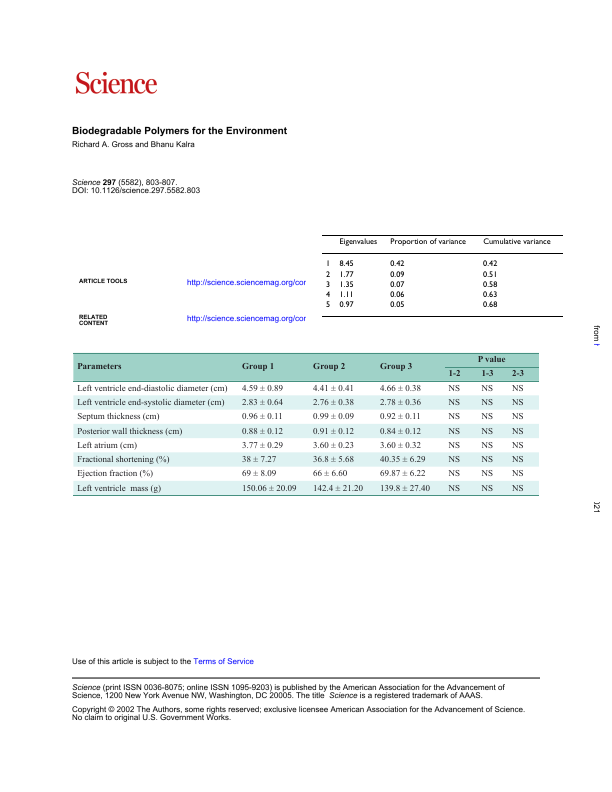borderless: (72, 351, 539, 495), (321, 233, 563, 317)
cell: (75, 384, 228, 394), (75, 398, 225, 408), (75, 427, 183, 437), (75, 455, 170, 465), (75, 412, 160, 423), (75, 484, 161, 494), (75, 469, 153, 480), (389, 237, 466, 247), (482, 237, 551, 247), (75, 441, 137, 451), (241, 484, 297, 494), (379, 469, 426, 480), (312, 484, 363, 494), (379, 484, 430, 494), (379, 455, 426, 465), (241, 412, 283, 423), (312, 412, 354, 423), (379, 412, 421, 423), (76, 363, 122, 373), (241, 384, 283, 394), (312, 384, 354, 394), (379, 384, 421, 394), (241, 398, 283, 408), (312, 398, 354, 408), (379, 398, 421, 408), (241, 427, 283, 437), (312, 427, 354, 437), (379, 427, 421, 437), (241, 441, 283, 451), (312, 441, 354, 451), (379, 441, 421, 451), (312, 455, 354, 465), (338, 237, 378, 247), (241, 469, 277, 480), (312, 469, 348, 480), (241, 455, 277, 465), (378, 363, 413, 373), (241, 363, 275, 373), (312, 363, 346, 373), (476, 356, 506, 366), (338, 270, 354, 280), (389, 270, 405, 280), (482, 270, 498, 280), (338, 280, 354, 290), (389, 280, 405, 290), (482, 280, 498, 290), (338, 290, 354, 300), (389, 290, 405, 300), (482, 290, 498, 300), (447, 412, 461, 423), (480, 412, 494, 423), (447, 469, 461, 480), (480, 469, 494, 480), (338, 260, 354, 269), (389, 260, 405, 269), (482, 260, 498, 269), (338, 301, 354, 310), (389, 301, 405, 310), (482, 301, 498, 310), (511, 412, 524, 423), (511, 469, 524, 480), (447, 370, 461, 380), (480, 370, 494, 380), (510, 370, 524, 380), (447, 384, 461, 394), (480, 384, 494, 394), (447, 398, 461, 408), (480, 398, 494, 408), (447, 427, 461, 437), (480, 427, 494, 437), (447, 441, 461, 451), (480, 441, 494, 451), (447, 455, 461, 465), (480, 455, 494, 465), (447, 484, 461, 494), (480, 484, 494, 494), (511, 384, 524, 394), (511, 398, 524, 408), (511, 427, 524, 437), (511, 441, 524, 451), (511, 455, 524, 465), (511, 484, 524, 494), (324, 270, 331, 280), (324, 280, 331, 290), (324, 290, 331, 300), (324, 260, 331, 269), (324, 301, 331, 310)
